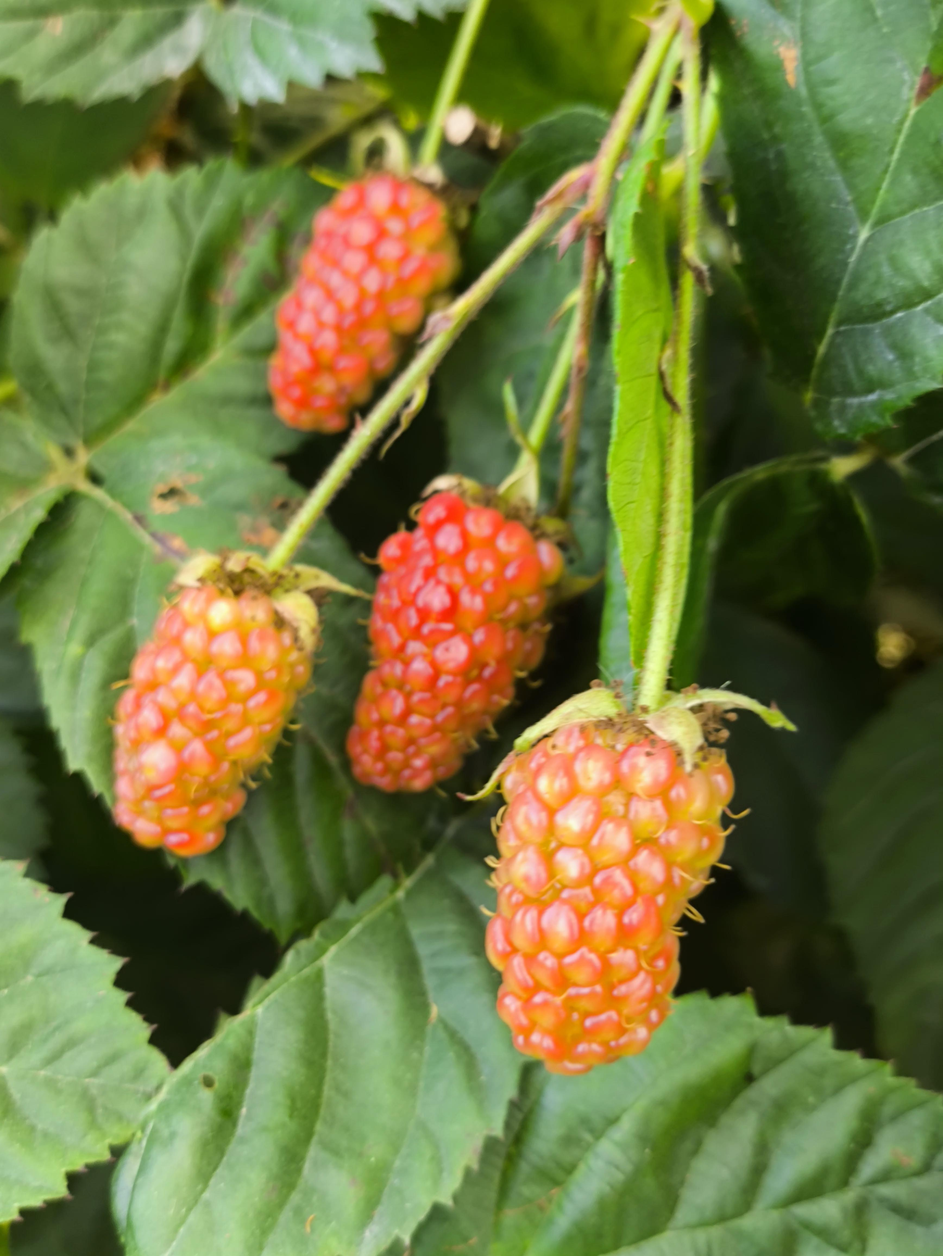naranja: (483, 720, 731, 1074), (114, 554, 336, 857), (347, 491, 565, 792), (269, 173, 458, 433)
